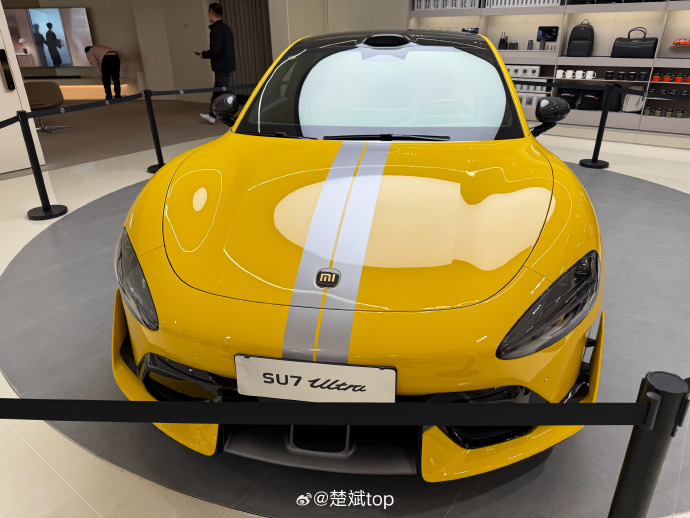su7: (123, 27, 611, 480)
